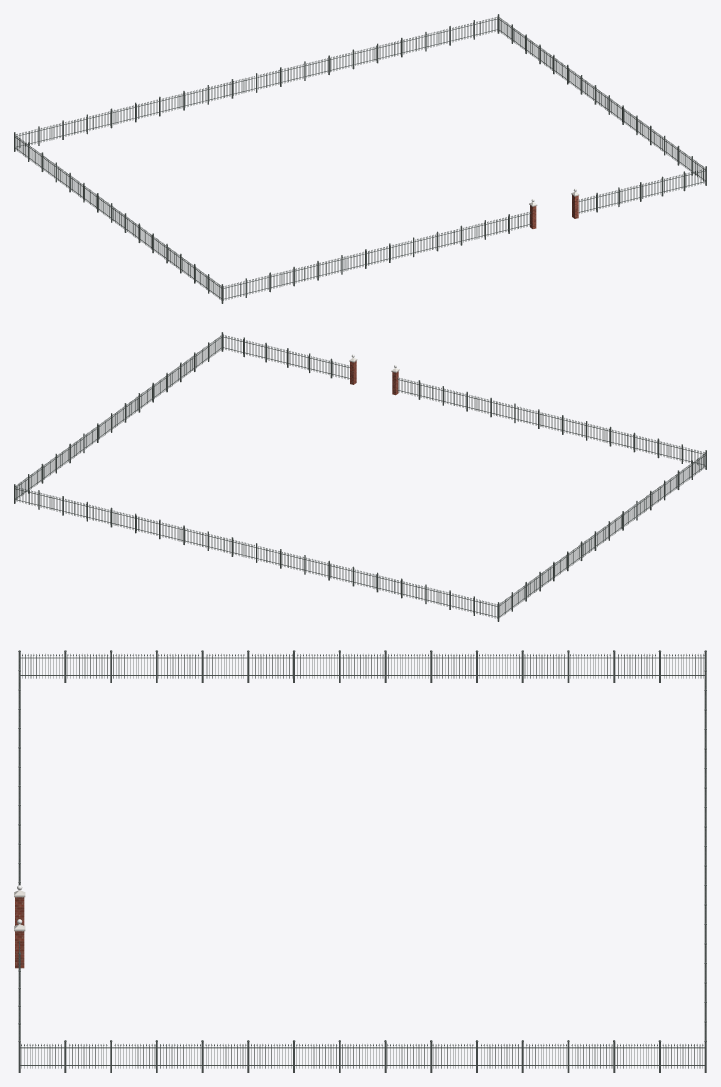
File: fence.glb
3 views of the same model, one above another, from view 1: azimuth 30°, elevation 25°; view 2: azimuth 150°, elevation 25°; view 3: azimuth 270°, elevation 25° (orthographic). The views are drawn at different scales.
Visible parts, largest first — view 1: fence_iron; view 2: fence_iron; view 3: fence_iron.
Boxes of the visible parts, x1=… form: fence_iron: x1=14, y1=14, x2=706, y2=303; fence_iron: x1=14, y1=332, x2=706, y2=621; fence_iron: x1=18, y1=650, x2=706, y2=1072.
Bounding box in the file's own units: 39.11 × 2.22 × 29.3.
4 materials, 1 textured.
